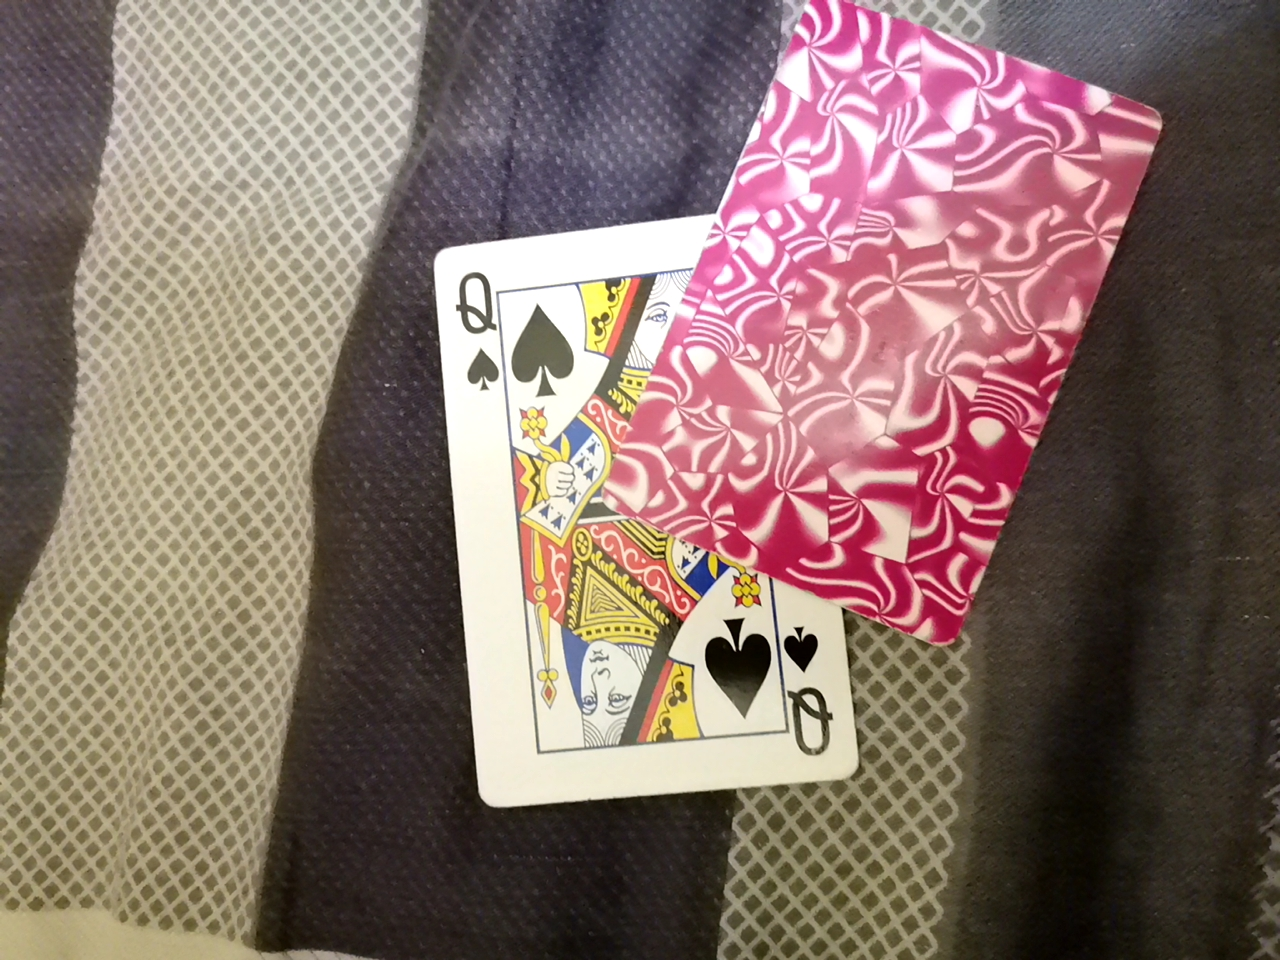ht q: (413, 182, 884, 859)
